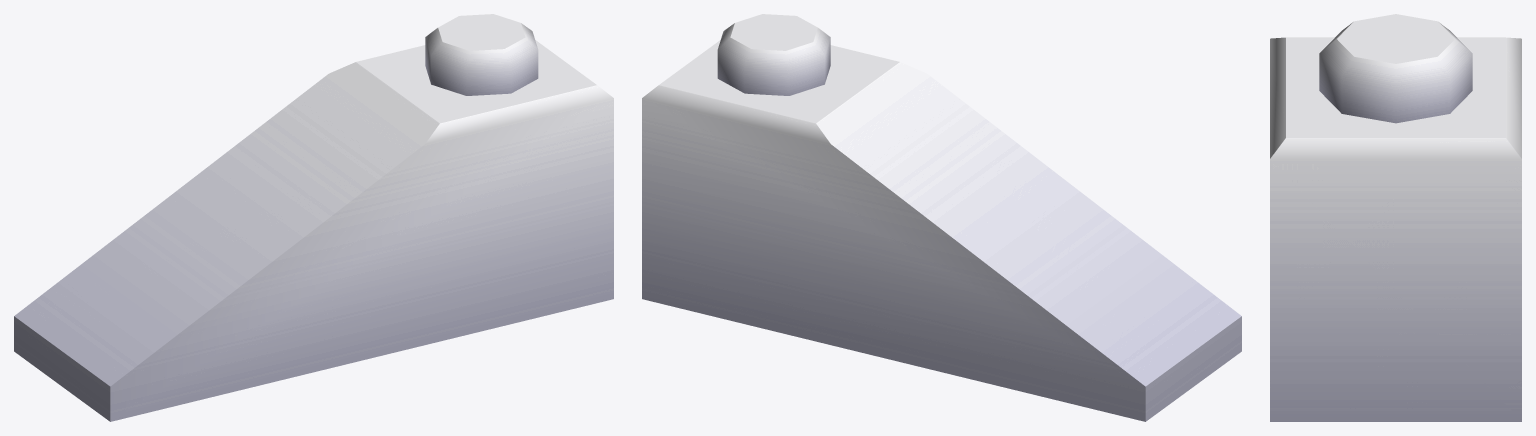
File: round-hq-brick-slope-3x1.glb
3 views of the same model, side by side, from view 1: azimuth 30°, elevation 25°; view 2: azimuth 150°, elevation 25°; view 3: azimuth 270°, elevation 25° (orthographic). The views are drawn at different scales.
Visible parts, largest first — view 1: round-hq-brick-slope-3x1; view 2: round-hq-brick-slope-3x1; view 3: round-hq-brick-slope-3x1.
Boxes of the visible parts, box(x1,y1,x2,y2) form: round-hq-brick-slope-3x1: box(14, 14, 613, 421); round-hq-brick-slope-3x1: box(642, 14, 1241, 421); round-hq-brick-slope-3x1: box(1270, 14, 1521, 421).
Size of the model in its own units: 0.2385 by 0.114 by 0.079.
1 material, 1 textured.
